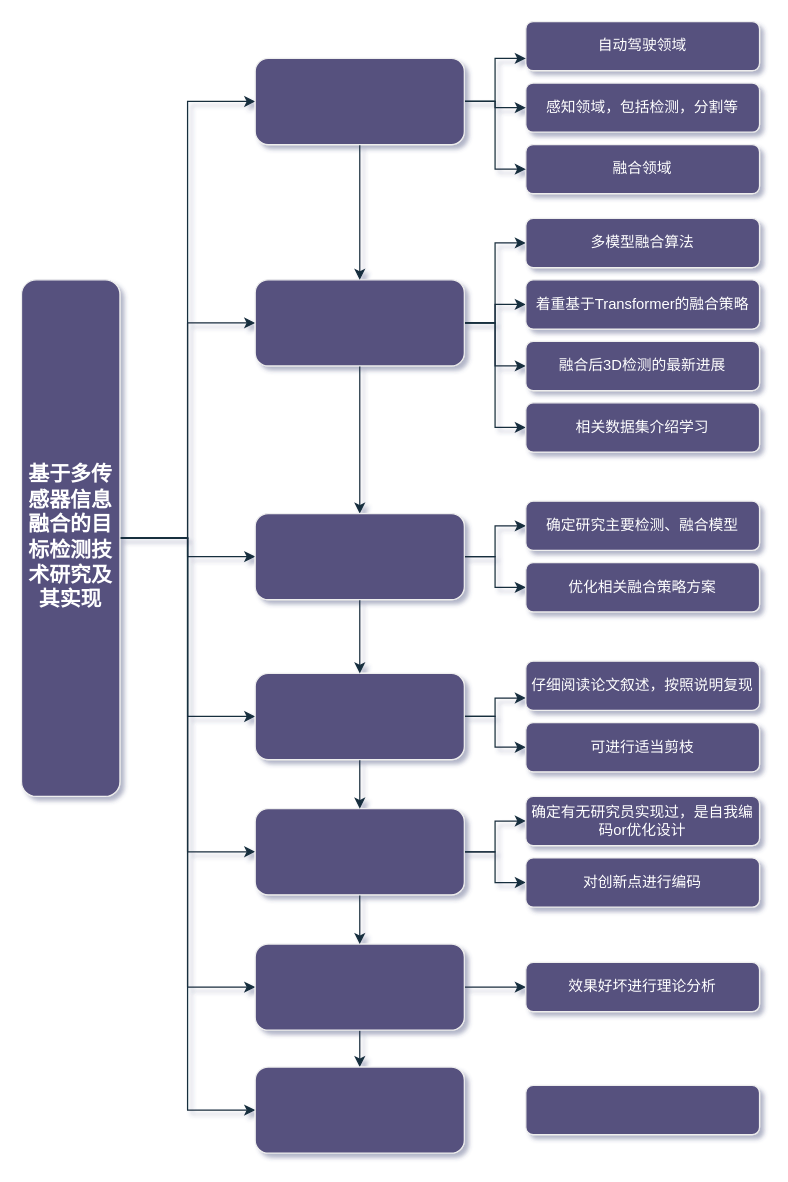
This 788x1182 diagram has some shape labels left out. Each missing label, with the centre of its shape:
"复现前人论文" goes at point (359, 716).
"总结该领域体系（匹配课题和个人能力）" goes at point (359, 556).
"改进点的验证" goes at point (359, 986).
"相关领域文献阅读（增长知识结构）" goes at point (359, 322).
"符合相关毕业论文要求，贴合当下自动驾驶信息融合 会议" goes at point (642, 1109).
"讨论创新点" goes at point (359, 851).
"论文撰写" goes at point (359, 1109).
"调研研究背景（学习理论）" goes at point (359, 101).
